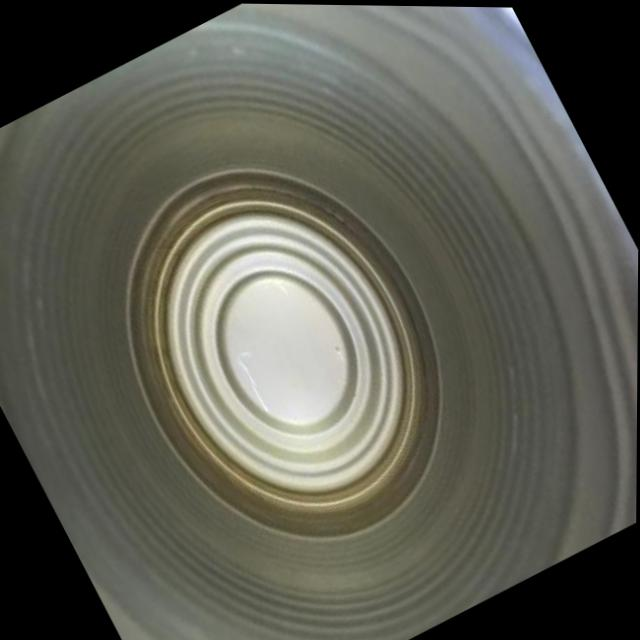metal: (0, 5, 636, 639)
